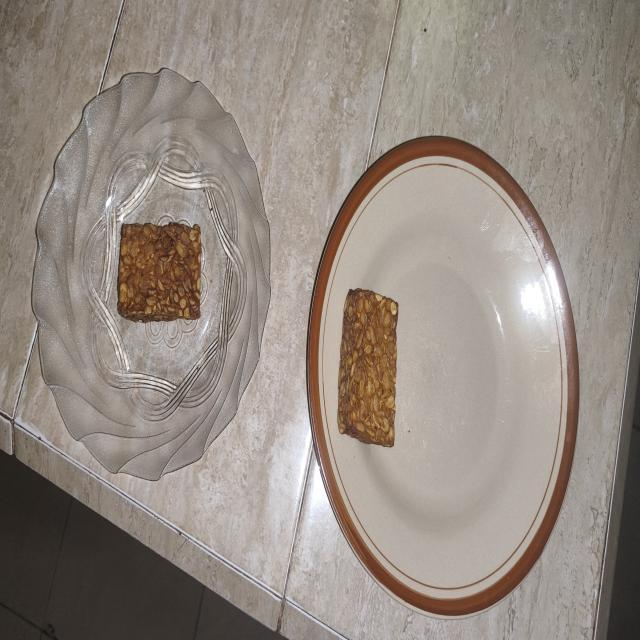tempe_goreng: (337, 288, 398, 446), (118, 222, 201, 322)
